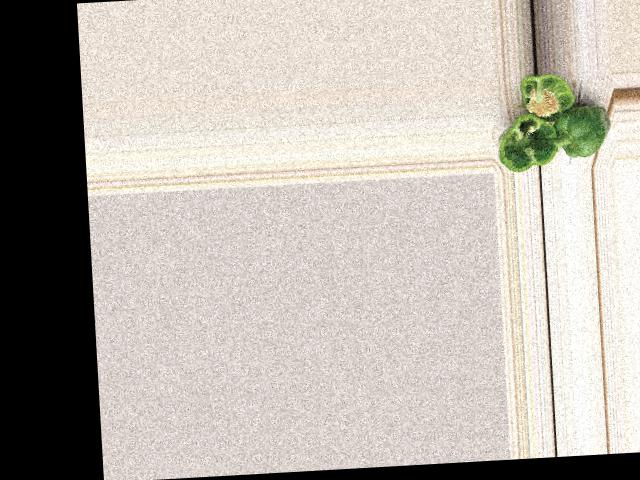bell_pepper: (508, 72, 579, 122)
